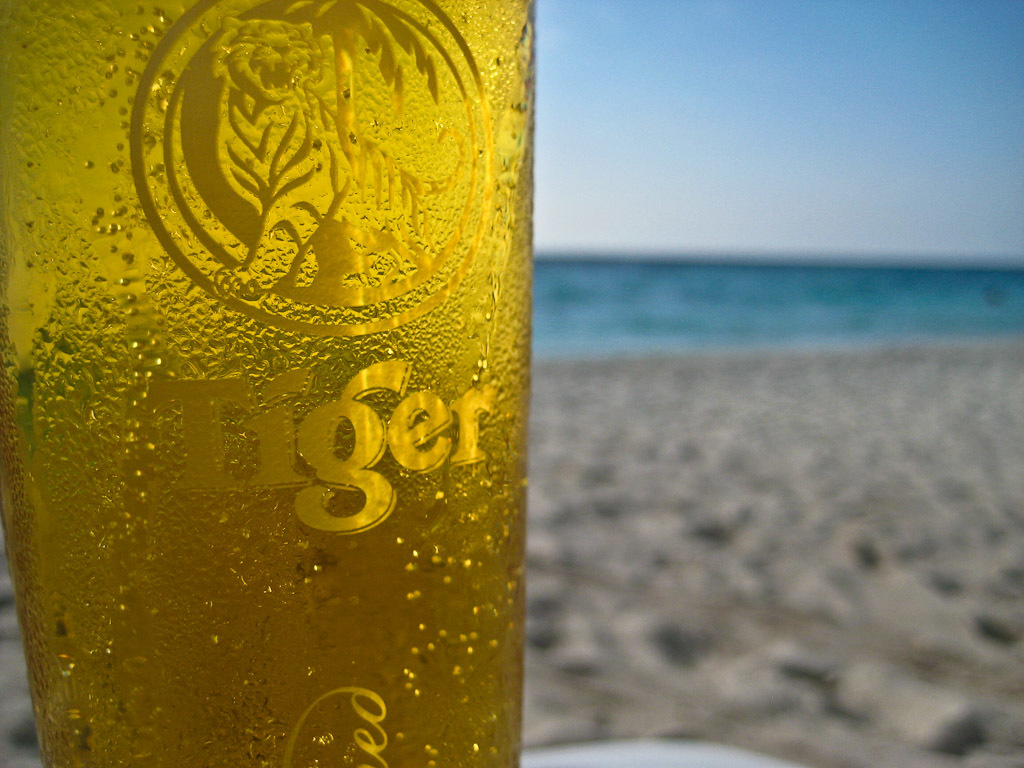Beer: (0, 0, 540, 767)
